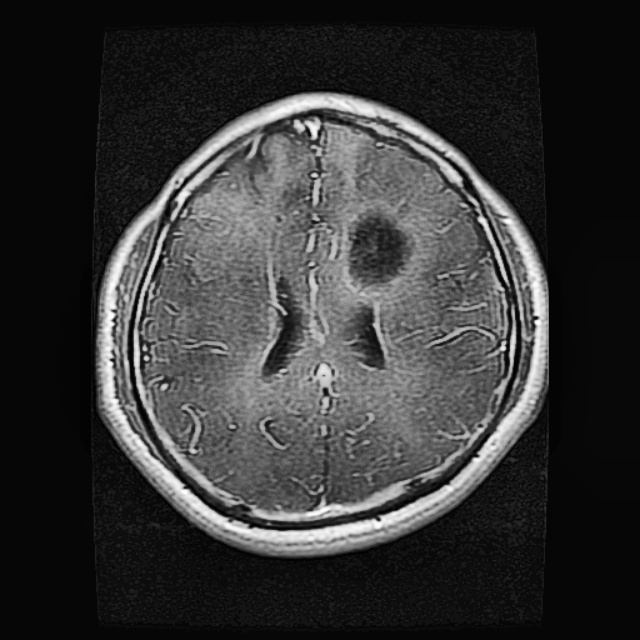Glioma: (345, 199, 417, 292)
